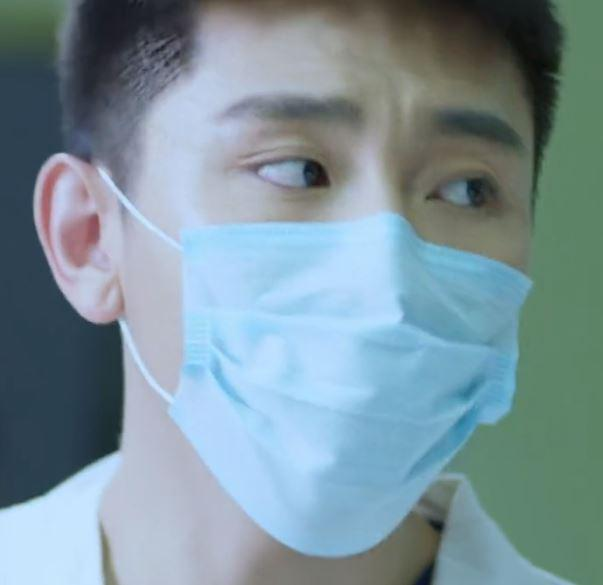OK: (150, 21, 546, 535)
